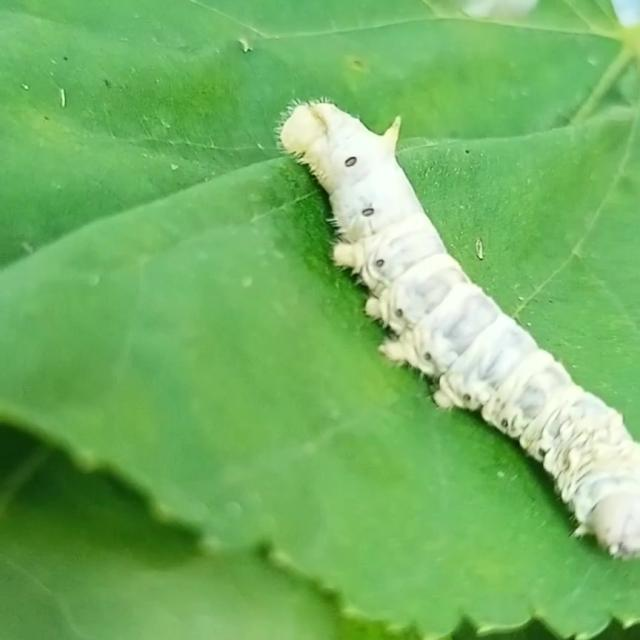Grasserie: (268, 68, 640, 565)
